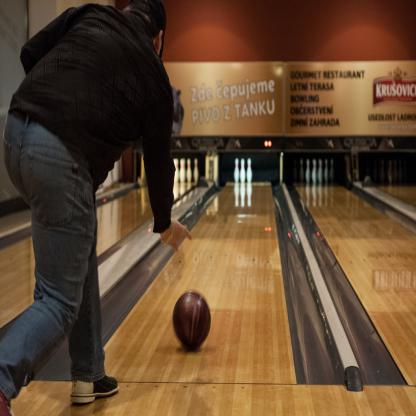Ball: (172, 291, 213, 355)
